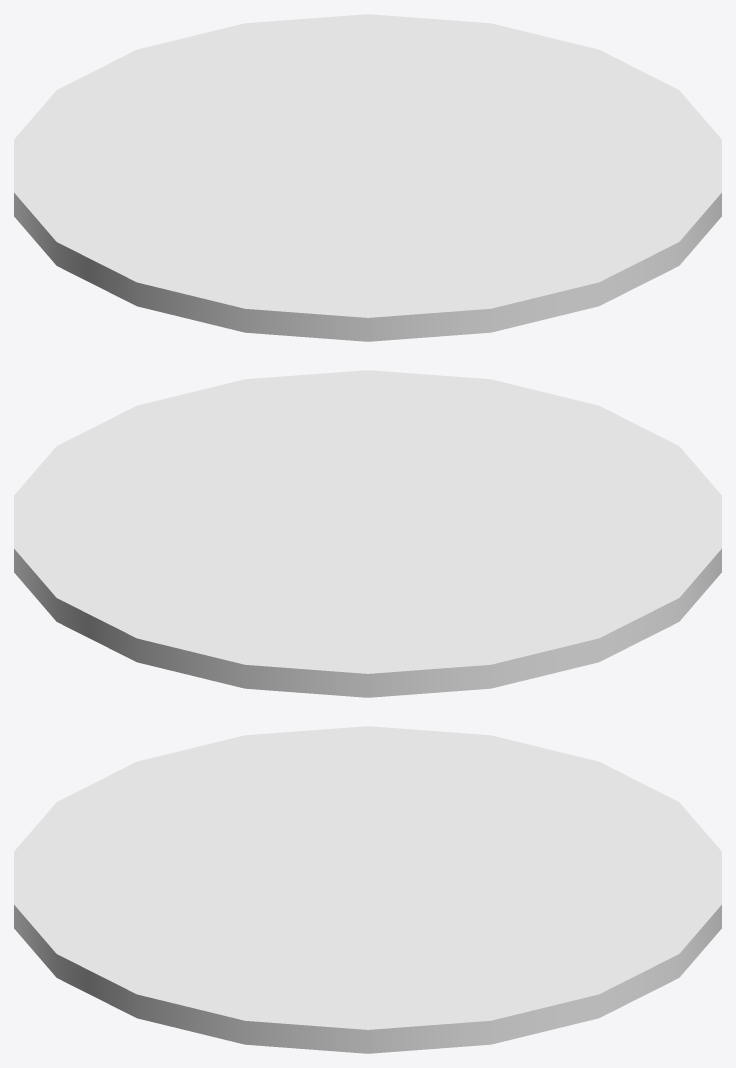
File: ground.fbx
3 renders of one model, top to bottom at view 1: azimuth 30°, elevation 25°; view 2: azimuth 150°, elevation 25°; view 3: azimuth 270°, elevation 25°, orthographic.
Visible parts, largest first — view 1: Cylinder001; view 2: Cylinder001; view 3: Cylinder001.
Part boxes in pixels (x1=…): Cylinder001: x1=14, y1=14, x2=721, y2=341; Cylinder001: x1=14, y1=370, x2=721, y2=697; Cylinder001: x1=14, y1=726, x2=721, y2=1053.
Size of the model in its own units: 293 by 10.76 by 289.
